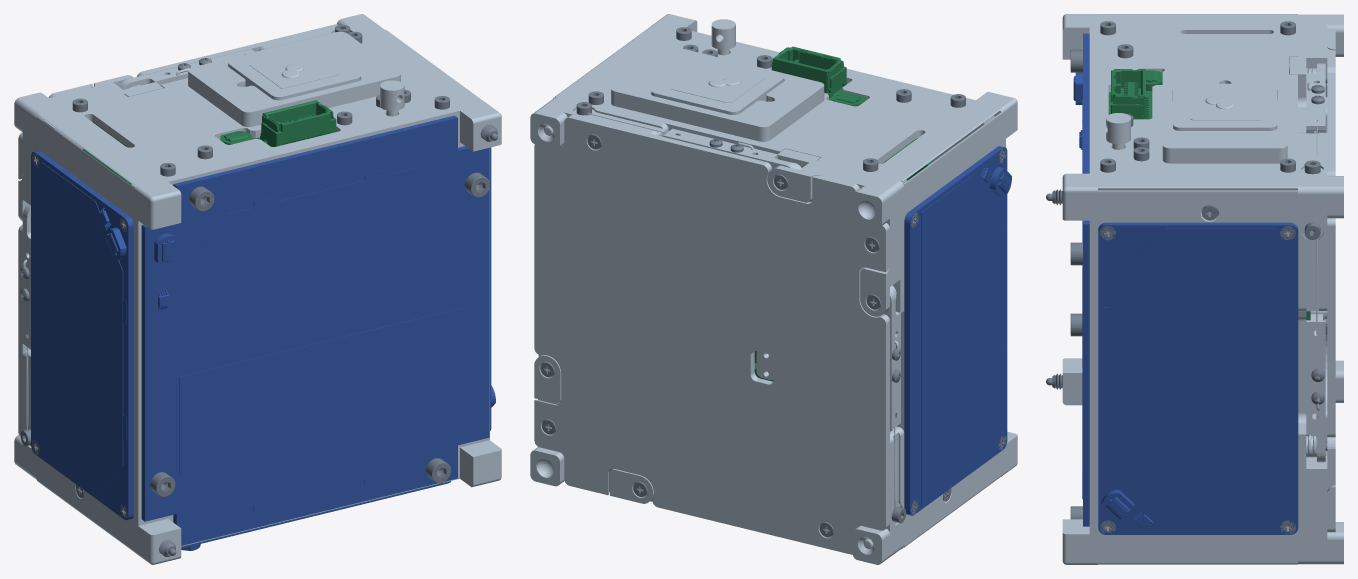
File: P-Dot-stowed.glb
The picture shows the model from 3 angles, left to right: view 1: azimuth 30°, elevation 25°; view 2: azimuth 150°, elevation 25°; view 3: azimuth 270°, elevation 25°; orthographic projection. The views are drawn at different scales.
Visible parts, largest first — view 1: 0197_11_SPPDMOSPT003-12022026, 0001_11_SPPDMOSPS003, 0018_SPPD106_001, 0194_SPPD110_001, 0022_SPPD106_009, 0000_SPPD109_001_Killswitch update, 0038_SPPD101_001, 0019_SPPD106_006, 0020_11_SPPDMOJTAGINT003-09022026, 0198_SPPD102_017, 0044_SPPD102_018, 0045_SPPD102_019 (+3 smaller); view 2: 0198_SPPD102_017, 0001_11_SPPDMOSPS003, 0018_SPPD106_001, 0038_SPPD101_001, 0022_SPPD106_009, 0000_SPPD109_001_Killswitch update, 0019_SPPD106_006, 0194_SPPD110_001, 0020_11_SPPDMOJTAGINT003-09022026, 0044_SPPD102_018, 0045_SPPD102_019, 0021_SPPD111_001; view 3: 0011_11_SPPDMOSPS003, 0018_SPPD106_001, 0038_SPPD101_001, 0008_SPPD108_001, 0194_SPPD110_001, 0022_SPPD106_009, 0019_SPPD106_006, 0197_11_SPPDMOSPT003-12022026, 0198_SPPD102_017, 0046_SPPD102_018, 0020_11_SPPDMOJTAGINT003-09022026, 0045_SPPD102_019 (+2 smaller).
Part boxes in pixels (x1,y1,x2,y2): 0197_11_SPPDMOSPT003-12022026: [141, 115, 489, 545]; 0001_11_SPPDMOSPS003: [31, 150, 133, 520]; 0018_SPPD106_001: [39, 30, 483, 186]; 0194_SPPD110_001: [131, 101, 501, 564]; 0022_SPPD106_009: [188, 31, 400, 126]; 0000_SPPD109_001_Killswitch update: [36, 117, 134, 551]; 0038_SPPD101_001: [14, 14, 384, 479]; 0019_SPPD106_006: [228, 41, 360, 100]; 0020_11_SPPDMOJTAGINT003-09022026: [220, 100, 336, 146]; 0198_SPPD102_017: [18, 24, 338, 436]; 0044_SPPD102_018: [22, 204, 30, 349]; 0045_SPPD102_019: [118, 49, 254, 89]; 0198_SPPD102_017: [534, 115, 889, 554]; 0001_11_SPPDMOSPS003: [904, 146, 1011, 515]; 0018_SPPD106_001: [555, 25, 999, 182]; 0038_SPPD101_001: [530, 97, 907, 564]; 0022_SPPD106_009: [611, 46, 824, 141]; 0000_SPPD109_001_Killswitch update: [897, 112, 1001, 547]; 0019_SPPD106_006: [651, 56, 783, 114]; 0194_SPPD110_001: [652, 14, 1017, 476]; 0020_11_SPPDMOJTAGINT003-09022026: [771, 46, 864, 106]; 0044_SPPD102_018: [883, 285, 900, 429]; 0045_SPPD102_019: [663, 128, 801, 169]; 0021_SPPD111_001: [711, 19, 735, 55]; 0011_11_SPPDMOSPS003: [1098, 222, 1298, 534]; 0018_SPPD106_001: [1098, 14, 1297, 190]; 0038_SPPD101_001: [1289, 14, 1343, 564]; 0008_SPPD108_001: [1098, 190, 1297, 564]; 0194_SPPD110_001: [1062, 14, 1097, 564]; 0022_SPPD106_009: [1162, 69, 1287, 163]; 0019_SPPD106_006: [1172, 83, 1277, 130]; 0197_11_SPPDMOSPT003-12022026: [1073, 33, 1089, 526]; 0198_SPPD102_017: [1327, 29, 1335, 532]; 0046_SPPD102_018: [1306, 320, 1325, 462]; 0020_11_SPPDMOJTAGINT003-09022026: [1108, 69, 1162, 119]; 0045_SPPD102_019: [1306, 63, 1325, 133].
Size of the model in its own units: 0.1078 by 0.1115 by 0.0715.
